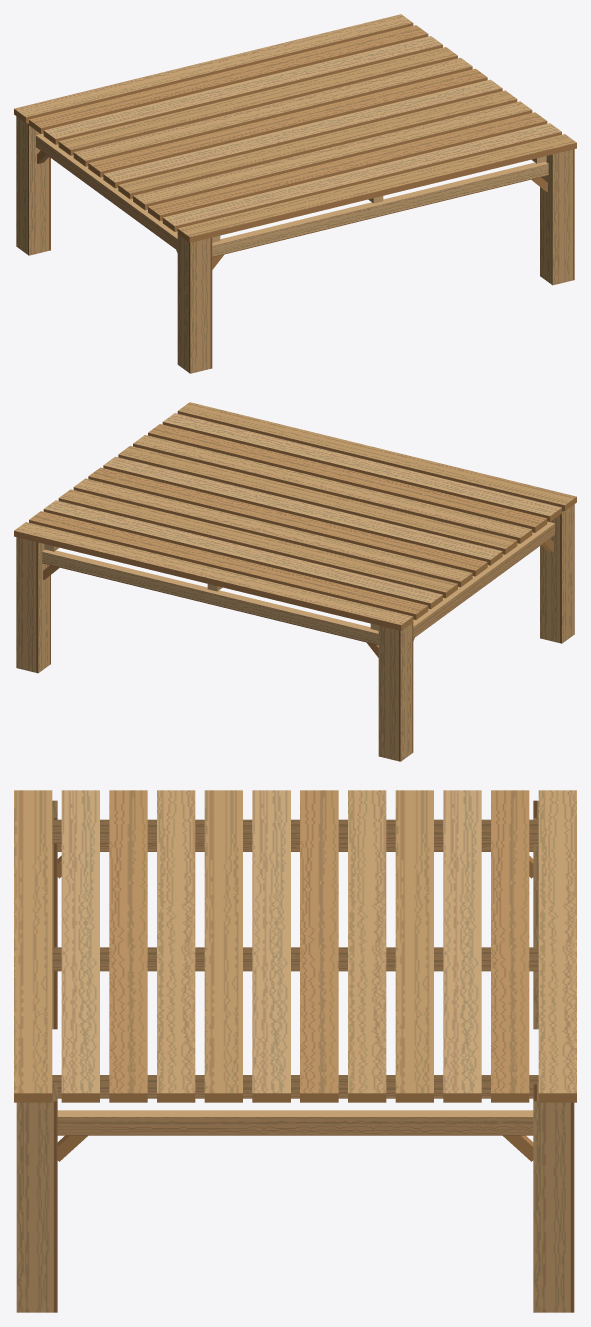
File: Prop_ProduceTable.fbx
3 renders of one model, top to bottom at view 1: azimuth 30°, elevation 25°; view 2: azimuth 150°, elevation 25°; view 3: azimuth 270°, elevation 25°, orthographic. The views are drawn at different scales.
Parts seen in each view (by area): view 1: Prop_ProduceTable; view 2: Prop_ProduceTable; view 3: Prop_ProduceTable.
Part boxes in pixels (bbox=[...]): Prop_ProduceTable: bbox=[14, 14, 576, 373]; Prop_ProduceTable: bbox=[14, 402, 576, 761]; Prop_ProduceTable: bbox=[14, 790, 576, 1312].
Size of the model in its own units: 2.8 by 0.95 by 2.2.
Materials: 1 (1 with a texture image).
